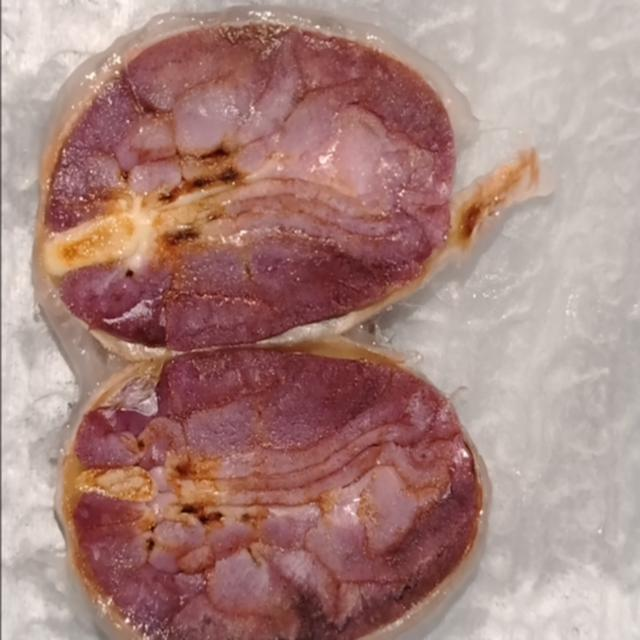Trinitario: (26, 24, 449, 362), (60, 375, 474, 640)
